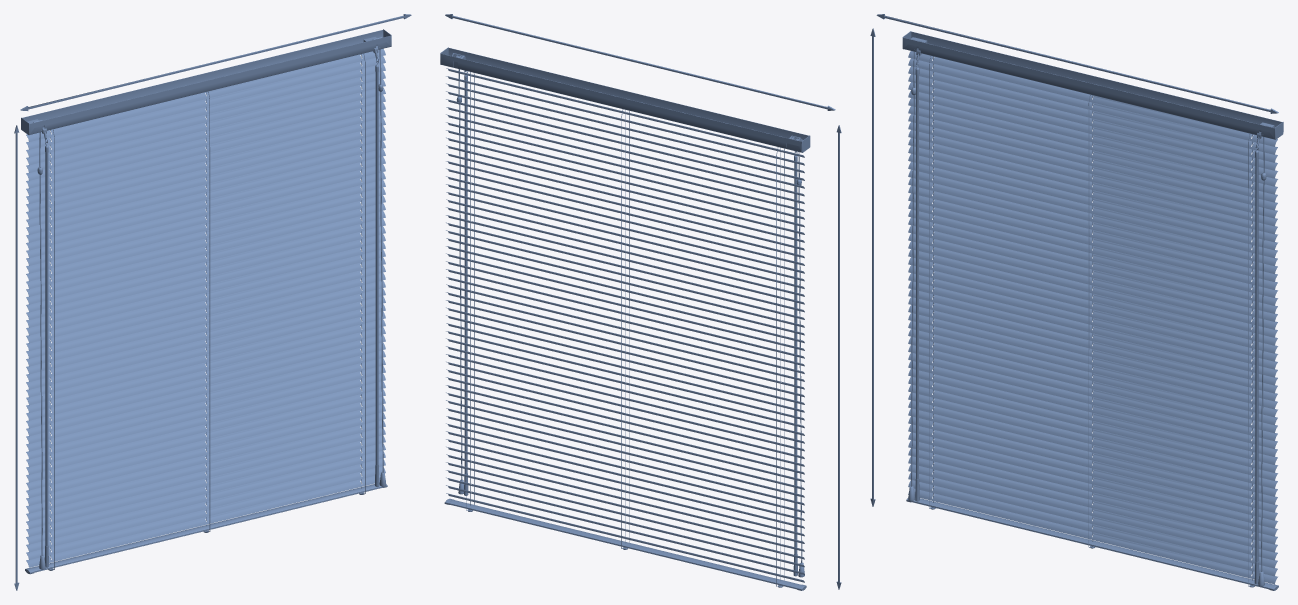
The model's file is curtain1.glb.
3 renders of one model, left to right at view 1: azimuth 30°, elevation 25°; view 2: azimuth 150°, elevation 25°; view 3: azimuth 330°, elevation 25°, orthographic. The views are drawn at different scales.
Visible parts, largest first — view 1: Head_Rail_Back_Color_Bracket_Right_Manual, Slat_H02_Fabric, Slat_H48_Fabric, Slat_H18_Fabric, Slat_H21_Fabric, Slat_H36_Fabric, Slat_H40_Fabric, Slat_H43_Fabric, Slat_H44_Fabric, Slat_H22_Fabric, Slat_H14_Fabric, Slat_H33_Fabric (+54 smaller); view 2: Head_Rail_Back_Color_First_Hide_Motorized, Cord_Color, Bottom_Rail_Back_Color, Arrow_Aluminum_First_Hide, Tiltergear_Plastic_Color_Bracket_Right_Manual, Tiltergear_Plastic_Color_Bracket_Left_Manual, Slat_H46_Fabric, Slat_H17_Fabric, Slat_H26_Fabric, Slat_H06_Fabric, Slat_H04_Fabric, Slat_H47_Fabric (+52 smaller); view 3: Head_Rail_Back_Color_Bracket_Right_Manual, Slat_H02_Fabric, Slat_H46_Fabric, Slat_H37_Fabric, Slat_H13_Fabric, Slat_H47_Fabric, Slat_H39_Fabric, Slat_H28_Fabric, Slat_H07_Fabric, Slat_H51_Fabric, Slat_H53_Fabric, Slat_H21_Fabric (+54 smaller).
Boxes of the visible parts, x1,y1,x2,y2 form: Head_Rail_Back_Color_Bracket_Right_Manual: [21, 30, 391, 569]; Slat_H02_Fabric: [26, 56, 385, 149]; Slat_H48_Fabric: [26, 412, 385, 505]; Slat_H18_Fabric: [26, 180, 385, 273]; Slat_H21_Fabric: [26, 203, 385, 296]; Slat_H36_Fabric: [26, 319, 385, 412]; Slat_H40_Fabric: [26, 350, 385, 443]; Slat_H43_Fabric: [26, 373, 385, 467]; Slat_H44_Fabric: [26, 381, 385, 474]; Slat_H22_Fabric: [26, 210, 385, 304]; Slat_H14_Fabric: [26, 149, 385, 242]; Slat_H33_Fabric: [26, 296, 385, 389]; Head_Rail_Back_Color_First_Hide_Motorized: [440, 47, 808, 152]; Cord_Color: [466, 71, 784, 586]; Bottom_Rail_Back_Color: [444, 498, 806, 590]; Arrow_Aluminum_First_Hide: [445, 14, 841, 589]; Tiltergear_Plastic_Color_Bracket_Right_Manual: [458, 55, 804, 495]; Tiltergear_Plastic_Color_Bracket_Left_Manual: [452, 53, 797, 576]; Slat_H46_Fabric: [446, 416, 804, 505]; Slat_H17_Fabric: [446, 192, 804, 281]; Slat_H26_Fabric: [446, 261, 804, 350]; Slat_H06_Fabric: [446, 107, 804, 196]; Slat_H04_Fabric: [446, 91, 804, 180]; Slat_H47_Fabric: [446, 423, 804, 513]; Head_Rail_Back_Color_Bracket_Right_Manual: [902, 31, 1282, 500]; Slat_H02_Fabric: [908, 58, 1277, 154]; Slat_H46_Fabric: [908, 408, 1277, 504]; Slat_H37_Fabric: [908, 336, 1277, 433]; Slat_H13_Fabric: [908, 146, 1277, 242]; Slat_H47_Fabric: [908, 416, 1277, 512]; Slat_H39_Fabric: [908, 352, 1277, 449]; Slat_H28_Fabric: [908, 265, 1277, 361]; Slat_H07_Fabric: [908, 98, 1277, 194]; Slat_H51_Fabric: [908, 448, 1277, 544]; Slat_H53_Fabric: [908, 464, 1277, 560]; Slat_H21_Fabric: [908, 209, 1277, 305].
Size of the model in its own units: 1.35 by 1.57 by 0.1001.
